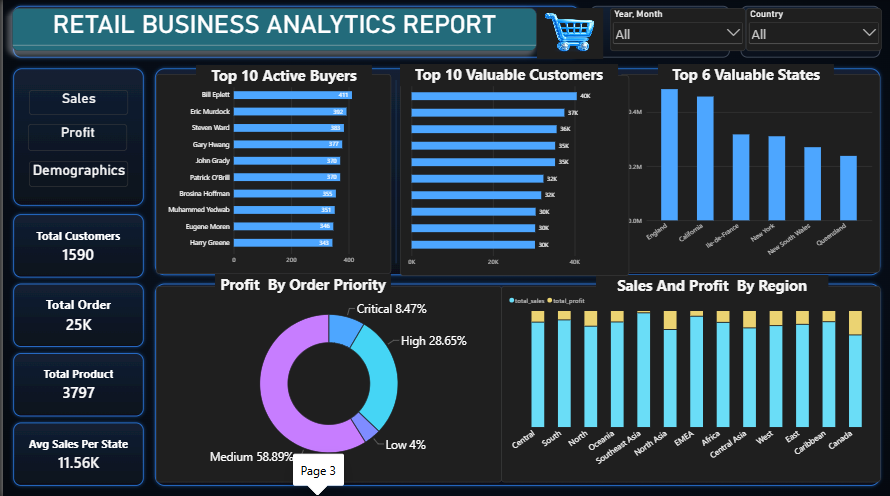

Layout of this report page (visuals, bound fields, positions):
{"tool":"powerbi","page":{"name":"Page 3","canvas":[1920,1080],"ordinal":2},"visuals":[{"type":"clusteredColumnChart","fields":{"Category":["location_table.State"],"Y":["sales_table.total_sales"]},"box":[1333.4,162.9,562.1,429.1],"z":0},{"type":"barChart","fields":{"Category":["customer_table.Customer Name"],"Y":["Sum(sales_table.Quantity)"]},"box":[330.5,162,507.6,432],"z":1000},{"type":"hundredPercentStackedColumnChart","fields":{"Category":["location_table.Region"],"Y":["sales_table.total_sales","sales_table.total_profit"]},"box":[1076.8,620.5,820.1,423.6],"z":2000},{"type":"donutChart","fields":{"Series":["sales_table.Order Priority"],"Y":["Sum(sales_table.Profit)"]},"box":[330.5,619.9,746.8,423.6],"z":3000},{"type":"textbox","title":"RETAIL BUSINESS ANALYTICS REPORT","box":[19.5,19.5,1133,93],"z":4000},{"type":"slicer","fields":{"Values":["Calendar.Year","Calendar.Month"]},"box":[1310.3,19.5,292.5,92.5],"z":5000},{"type":"slicer","fields":{"Values":["location_table.Country"]},"box":[1605,20,292.5,92.5],"z":6000},{"type":"cardVisual","fields":{"Data":["sales_table.Total_Customer"]},"box":[18.8,461.2,286.9,144.8],"z":7000},{"type":"cardVisual","fields":{"Data":["sales_table.Total_Order"]},"box":[19.4,607,287.3,151.2],"z":8000},{"type":"cardVisual","fields":{"Data":["sales_table.Total_Product"]},"box":[19.4,760.3,287.3,142.6],"z":9000},{"type":"cardVisual","fields":{"Data":["sales_table.Avg_Sales_Per_State"]},"box":[19.4,905,287.3,157.7],"z":10000},{"type":"textbox","box":[459,594.7,380,47.5],"z":11000},{"type":"textbox","box":[416.9,142.6,380,47.5],"z":12000},{"type":"textbox","box":[1414.9,141.2,380,47.5],"z":13000},{"type":"textbox","box":[1280,596.8,501.6,45.4],"z":14000},{"type":"image","box":[1152.4,19.5,142.7,110.3],"z":15000},{"type":"clusteredBarChart","fields":{"Category":["customer_table.Customer Name"],"Y":["sales_table.total_sales"]},"box":[857.5,164.2,494.6,434.2],"z":16000},{"type":"textbox","box":[857.5,140.4,470.9,47.5],"z":17000},{"type":"actionButton","title":"Sales","box":[56.2,196.6,213.8,54],"z":18000},{"type":"actionButton","title":"Profit","box":[54,270,213.8,58.3],"z":19000},{"type":"actionButton","title":"Demographics","box":[56.2,349.9,213.8,56.2],"z":20000}]}

Visuals, with their boxes in screenshot pixels (x1, y1, x2, y2), scaled from the page's 1920x1080 canvas onto the 890x496 screenshot:
clusteredColumnChart - location_table.State x sales_table.total_sales: (left=618, top=75, right=879, bottom=272)
barChart - customer_table.Customer Name x Sum(sales_table.Quantity): (left=153, top=74, right=388, bottom=273)
hundredPercentStackedColumnChart - location_table.Region x sales_table.total_sales: (left=499, top=285, right=879, bottom=480)
donutChart - sales_table.Order Priority x Sum(sales_table.Profit): (left=153, top=285, right=499, bottom=479)
"RETAIL BUSINESS ANALYTICS REPORT" textbox: (left=9, top=9, right=534, bottom=52)
slicer - Calendar.Year x Calendar.Month: (left=607, top=9, right=743, bottom=51)
slicer - location_table.Country: (left=744, top=9, right=880, bottom=52)
cardVisual - sales_table.Total_Customer: (left=9, top=212, right=142, bottom=278)
cardVisual - sales_table.Total_Order: (left=9, top=279, right=142, bottom=348)
cardVisual - sales_table.Total_Product: (left=9, top=349, right=142, bottom=415)
cardVisual - sales_table.Avg_Sales_Per_State: (left=9, top=416, right=142, bottom=488)
textbox: (left=213, top=273, right=389, bottom=295)
textbox: (left=193, top=65, right=369, bottom=87)
textbox: (left=656, top=65, right=832, bottom=87)
textbox: (left=593, top=274, right=826, bottom=295)
image: (left=534, top=9, right=600, bottom=60)
clusteredBarChart - customer_table.Customer Name x sales_table.total_sales: (left=397, top=75, right=627, bottom=275)
textbox: (left=397, top=64, right=616, bottom=86)
"Sales" actionButton: (left=26, top=90, right=125, bottom=115)
"Profit" actionButton: (left=25, top=124, right=124, bottom=151)
"Demographics" actionButton: (left=26, top=161, right=125, bottom=187)
